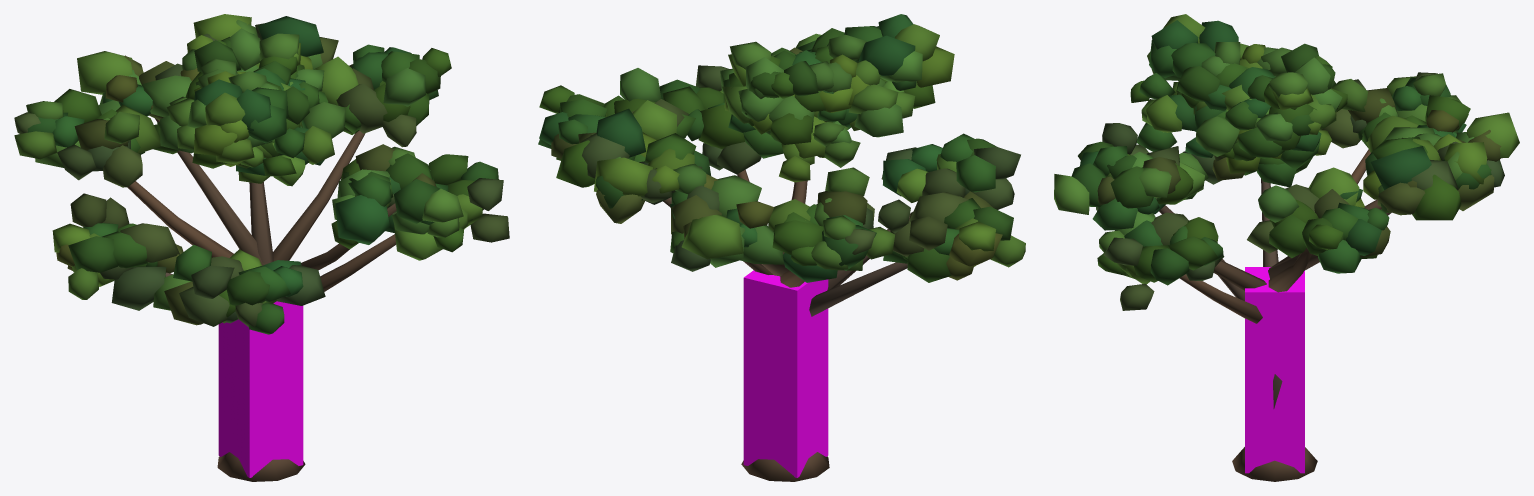
Rendered from PRP_Neem_Tree_B.glb.
3 renders of one model, left to right at view 1: azimuth 30°, elevation 25°; view 2: azimuth 150°, elevation 25°; view 3: azimuth 270°, elevation 25°, orthographic. The views are drawn at different scales.
Parts seen in each view (by area): view 1: PRP_Neem_Tree_B_Mesh, COL_Trunk; view 2: PRP_Neem_Tree_B_Mesh, COL_Trunk; view 3: PRP_Neem_Tree_B_Mesh, COL_Trunk.
Boxes of the visible parts, bbox=[...] form: PRP_Neem_Tree_B_Mesh: bbox=[14, 14, 509, 481]; COL_Trunk: bbox=[218, 301, 303, 477]; PRP_Neem_Tree_B_Mesh: bbox=[538, 14, 1025, 481]; COL_Trunk: bbox=[743, 270, 828, 477]; PRP_Neem_Tree_B_Mesh: bbox=[1054, 14, 1519, 481]; COL_Trunk: bbox=[1245, 267, 1304, 473].
Size of the model in its own units: 7.19 by 6.85 by 7.
